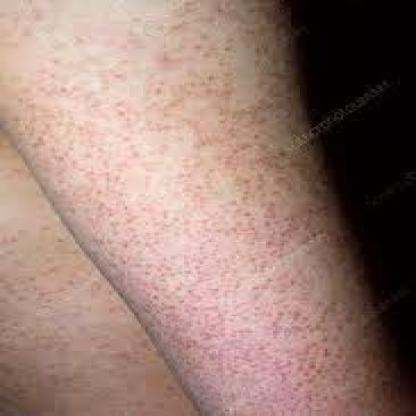Chicken Skin: (54, 38, 311, 247), (146, 251, 380, 416), (0, 235, 121, 413)
